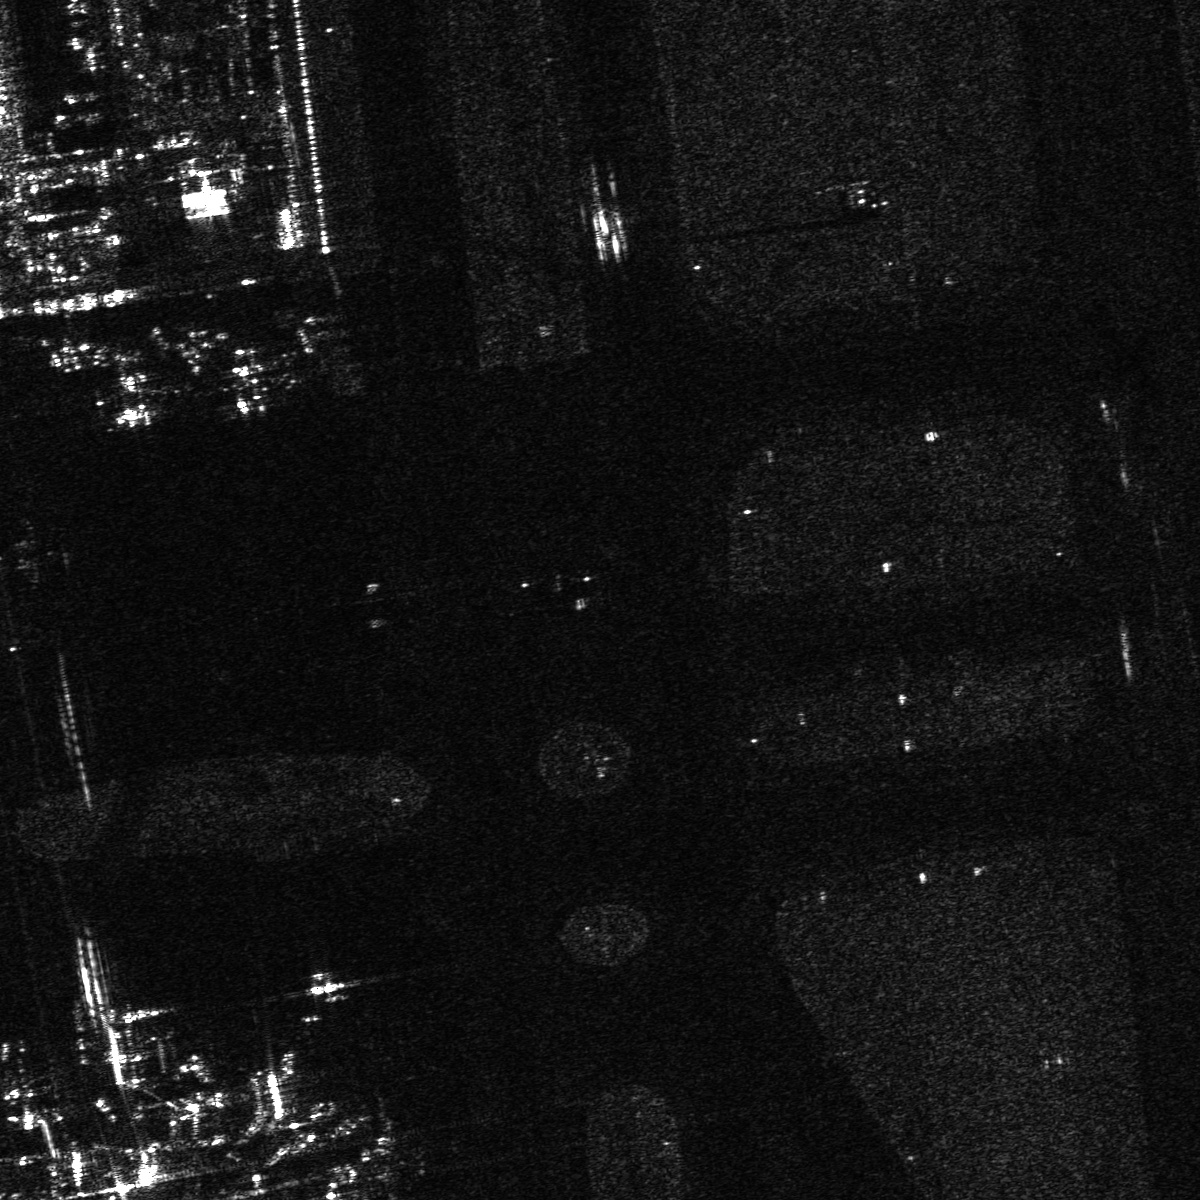A220: (1, 1038, 51, 1127)
Boeing737: (89, 365, 176, 423)
Boeing787: (205, 338, 296, 416)
